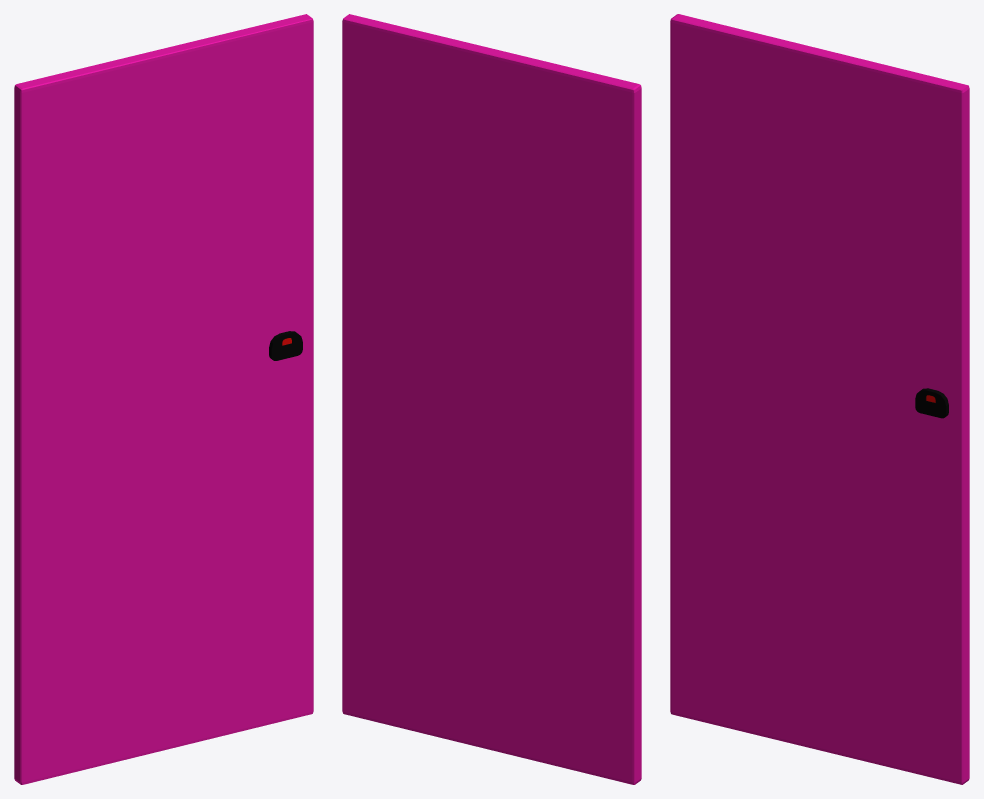
The picture shows the model from 3 angles, left to right: view 1: azimuth 30°, elevation 25°; view 2: azimuth 150°, elevation 25°; view 3: azimuth 330°, elevation 25°; orthographic projection.
Visible parts, largest first — view 1: Cube; view 2: Cube; view 3: Cube.
Boxes of the visible parts, left/top/right/bottom form: Cube: left=14, top=14, right=313, bottom=784; Cube: left=342, top=14, right=641, bottom=784; Cube: left=670, top=14, right=969, bottom=784.
Bounding box in the file's own units: 85.78 × 195 × 5.07.
